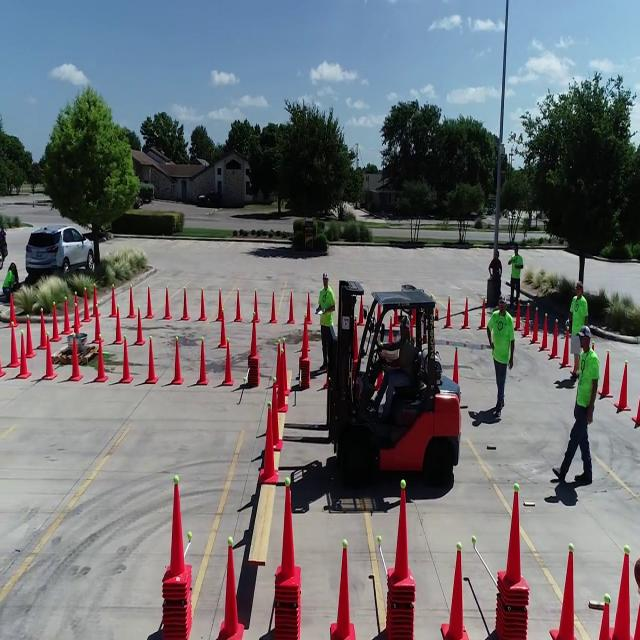Chariot elevateur: (320, 273, 466, 499)
